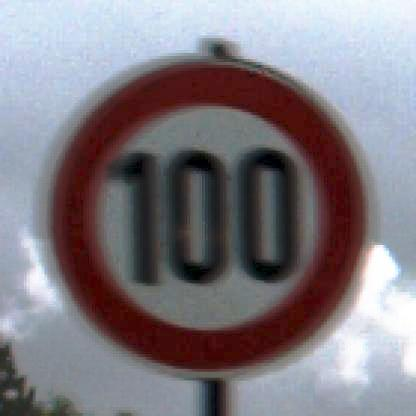Speed Limit -100-: (41, 57, 373, 382)
